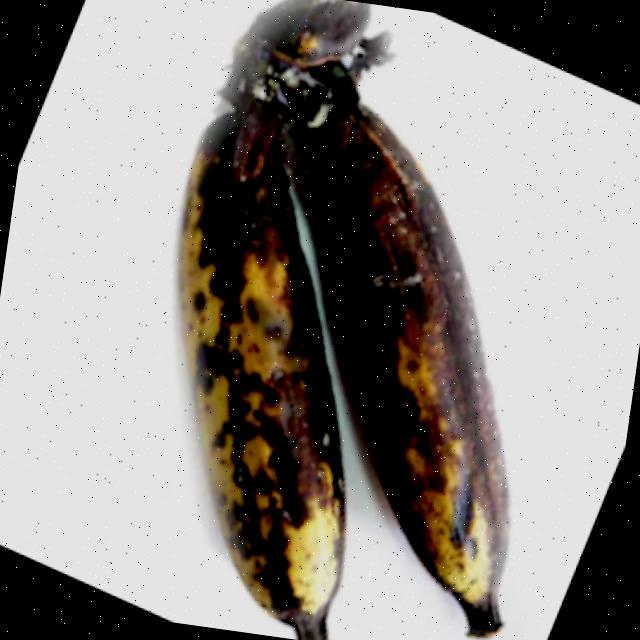rotten banana: (261, 26, 640, 640), (112, 71, 390, 640)
